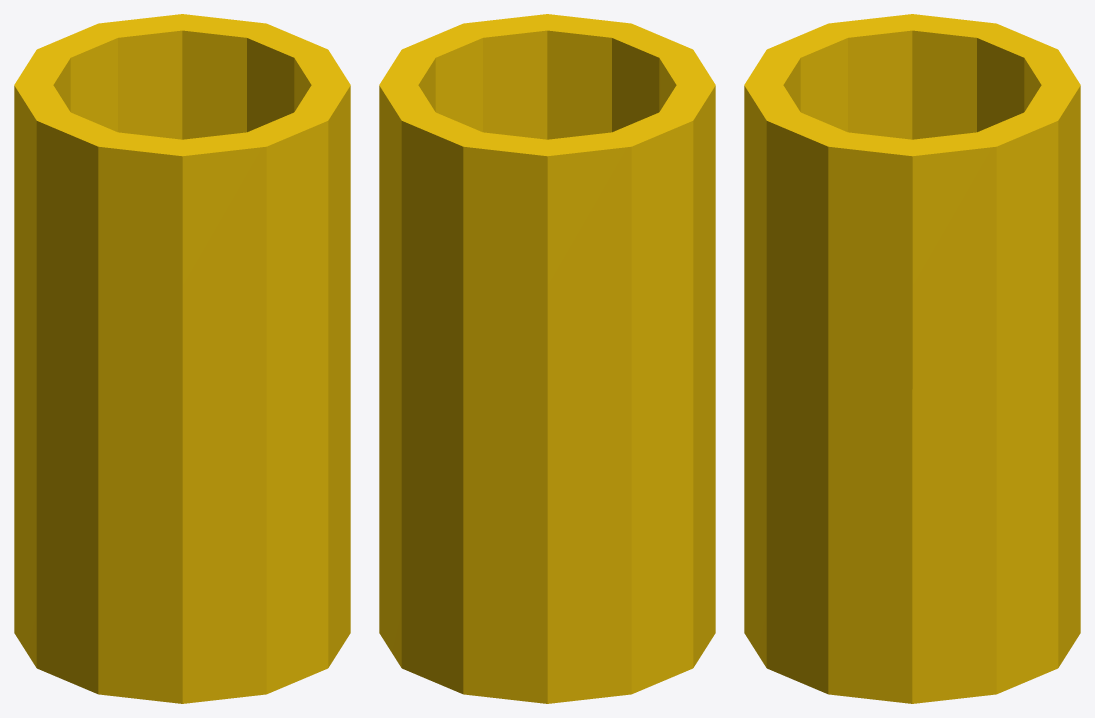
Rendered from Gun_shell.fbx.
3 renders of one model, left to right at view 1: azimuth 30°, elevation 25°; view 2: azimuth 150°, elevation 25°; view 3: azimuth 270°, elevation 25°, orthographic.
Visible parts, largest first — view 1: Cylinder; view 2: Cylinder; view 3: Cylinder.
Part boxes in pixels (x1,y1,x2,y2): Cylinder: [14, 14, 350, 703]; Cylinder: [379, 14, 715, 703]; Cylinder: [744, 14, 1080, 703].
Bounding box in the file's own units: 16.84 × 30.23 × 16.84.
